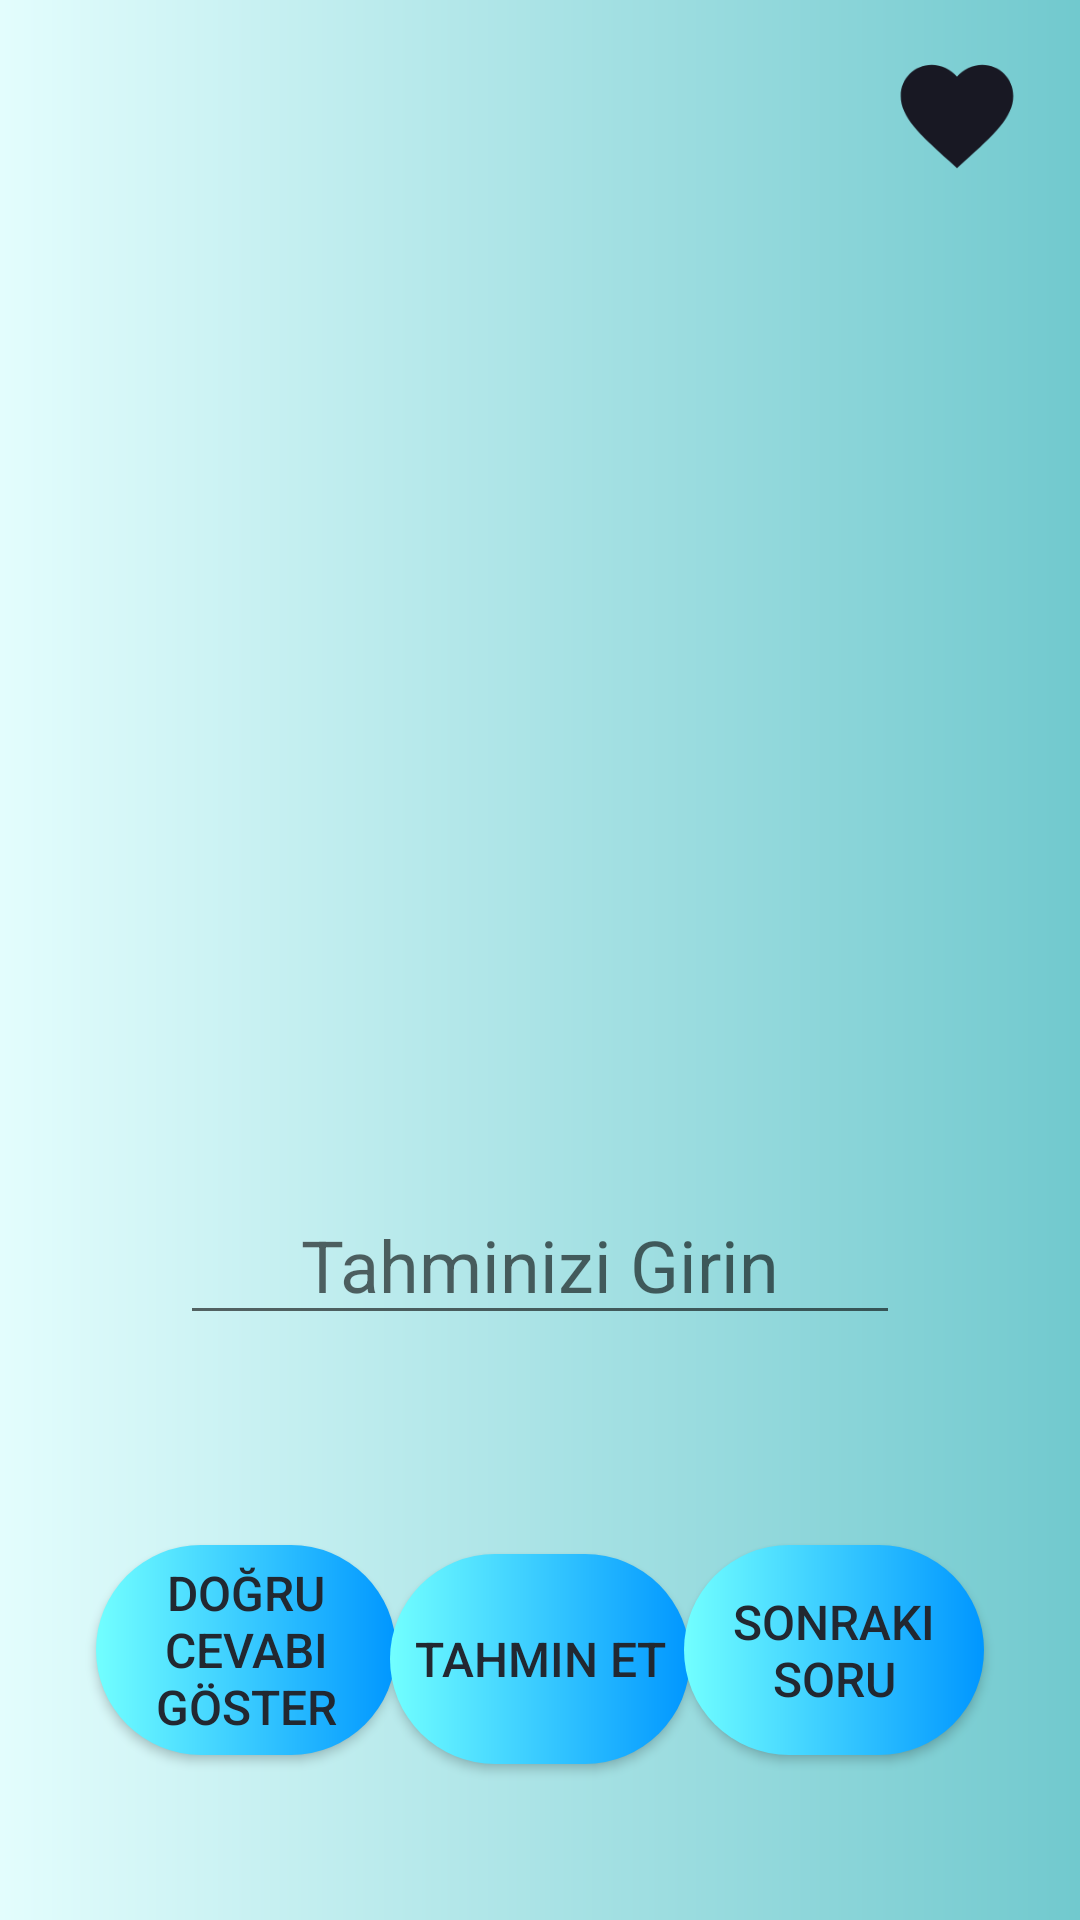

Where icons sit on this 1080 x 1920 app screen, as (x1, y1, x2, y2):
favorite: (900, 64, 1014, 168)
